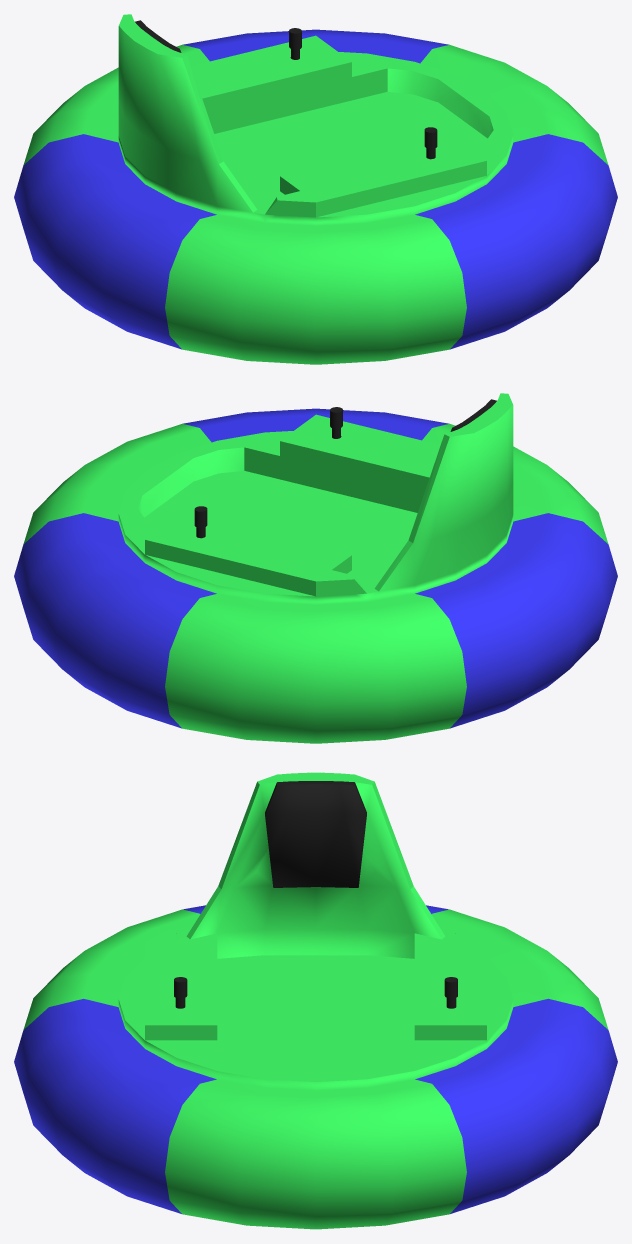
Rendered from TorusCart_lime_darkblue.dae.
The picture shows the model from 3 angles, top to bottom: view 1: azimuth 30°, elevation 25°; view 2: azimuth 150°, elevation 25°; view 3: azimuth 270°, elevation 25°; orthographic projection.
Parts seen in each view (by area): view 1: Torus.003; view 2: Torus.003; view 3: Torus.003.
Boxes of the visible parts, box(x1,y1,x2,y2) form: Torus.003: box(14, 14, 617, 364); Torus.003: box(14, 393, 617, 743); Torus.003: box(14, 772, 617, 1229).
Bounding box in the file's own units: 1.3 × 1.3 × 0.6266.
